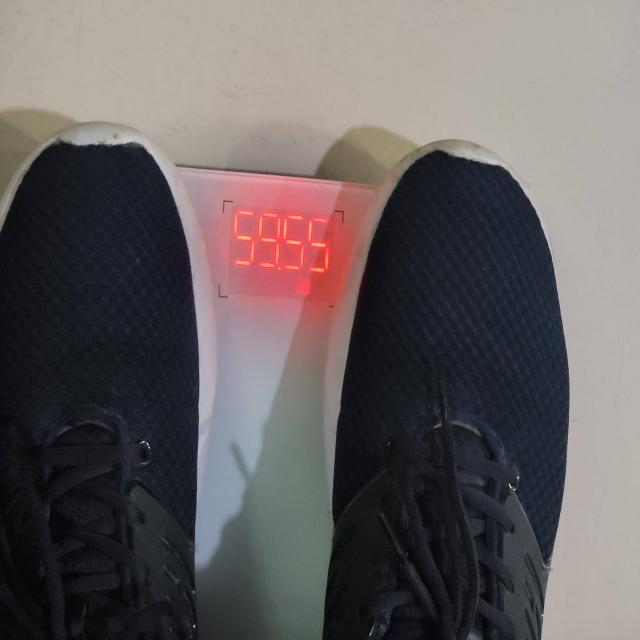ws: (176, 168, 379, 417)
